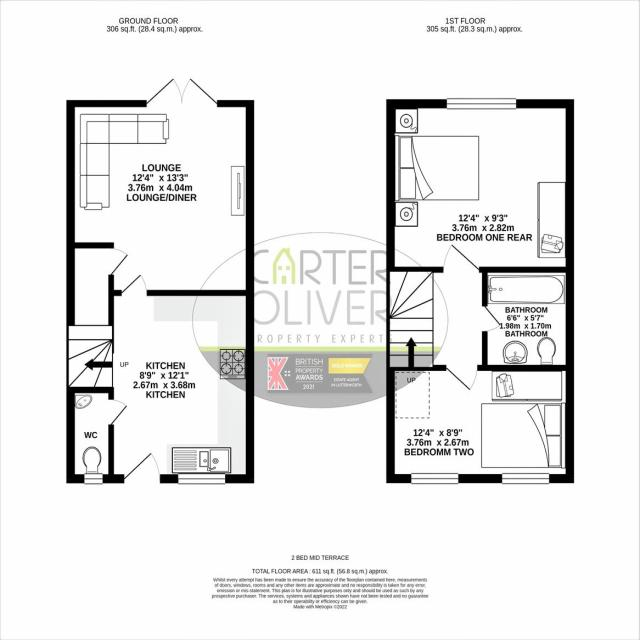DOOR: (124, 451, 161, 484), (443, 243, 480, 274), (445, 364, 479, 392), (121, 273, 148, 297), (108, 247, 129, 275), (482, 305, 502, 333), (108, 399, 128, 425)
DOUBLE DOOR: (145, 77, 218, 108)
ROOM: (66, 77, 255, 296), (386, 98, 575, 273), (108, 273, 255, 484), (386, 365, 575, 484)
WINDOW: (446, 97, 517, 110), (501, 472, 550, 485), (177, 473, 226, 485), (411, 472, 459, 484), (84, 473, 103, 484)
